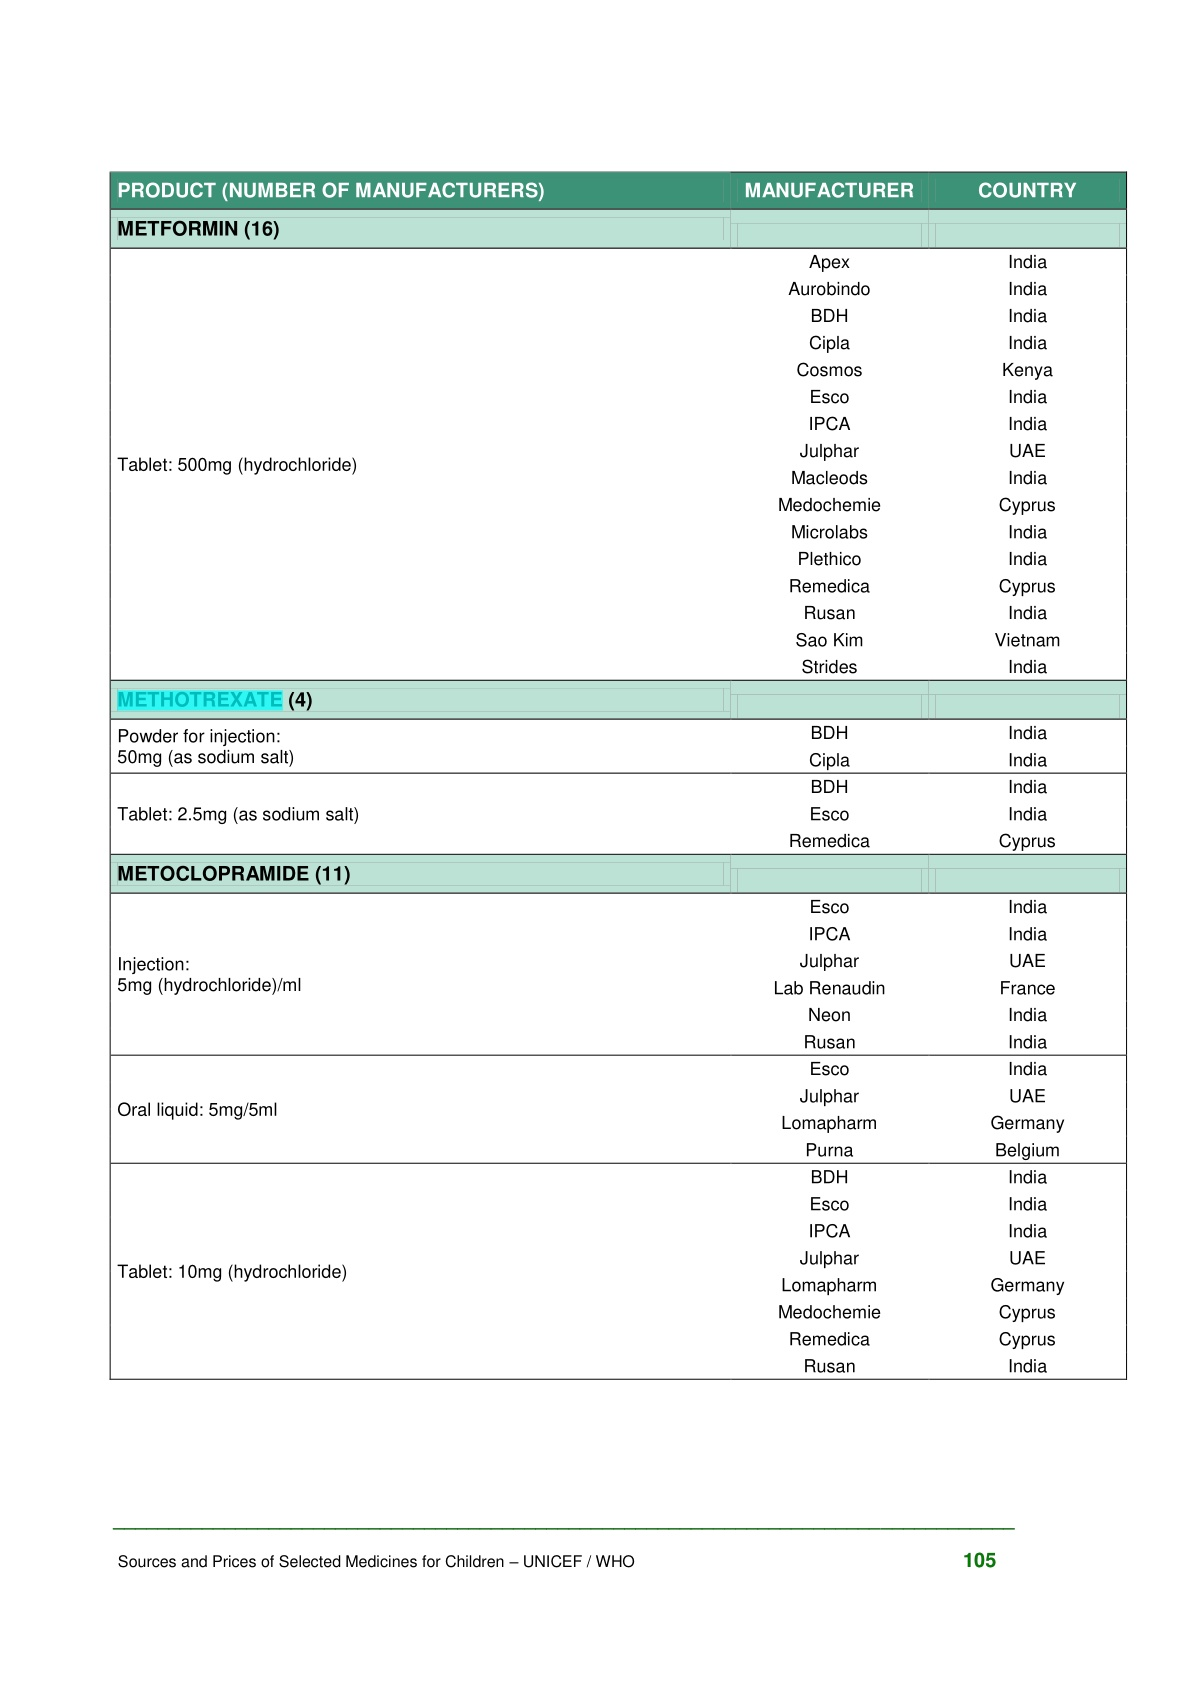partial_lined_merged_cells: (108, 169, 1128, 1381)
